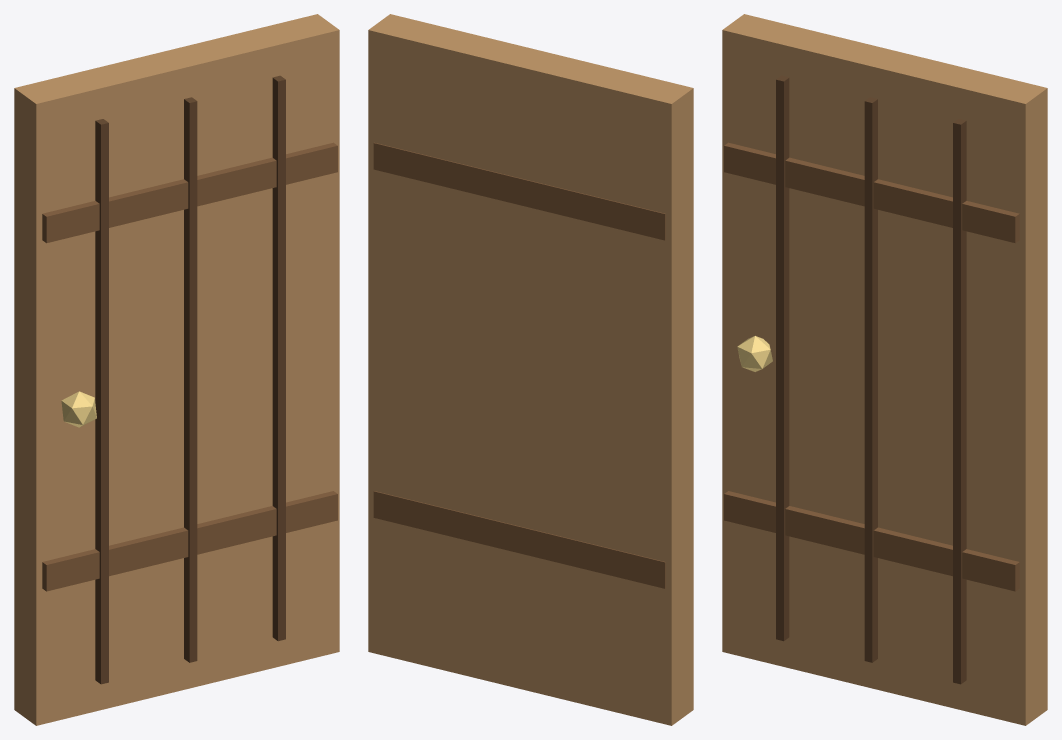
The model's file is door_open_close.glb.
The picture shows the model from 3 angles, left to right: view 1: azimuth 30°, elevation 25°; view 2: azimuth 150°, elevation 25°; view 3: azimuth 330°, elevation 25°; orthographic projection.
Parts seen in each view (by area): view 1: DoorPanel, DoorTopRail, DoorBottomRail, DoorGrainLine.001, DoorGrainLine.002, DoorGrainLine, DoorKnob; view 2: DoorPanel, DoorTopRail, DoorBottomRail; view 3: DoorPanel, DoorTopRail, DoorBottomRail, DoorGrainLine.001, DoorGrainLine, DoorGrainLine.002, DoorKnob.
Part boxes in pixels (box(x1,y1,x2,y2)): DoorPanel: box(14, 14, 339, 725); DoorTopRail: box(42, 142, 337, 243); DoorBottomRail: box(42, 491, 337, 591); DoorGrainLine.001: box(184, 97, 197, 662); DoorGrainLine.002: box(272, 75, 285, 641); DoorGrainLine: box(95, 119, 108, 684); DoorKnob: box(61, 391, 96, 427); DoorPanel: box(368, 14, 693, 725); DoorTopRail: box(373, 142, 665, 240); DoorBottomRail: box(373, 491, 665, 588); DoorPanel: box(722, 14, 1047, 725); DoorTopRail: box(724, 142, 1019, 243); DoorBottomRail: box(724, 491, 1019, 591); DoorGrainLine.001: box(864, 97, 877, 662); DoorGrainLine: box(776, 75, 789, 641); DoorGrainLine.002: box(953, 119, 966, 684); DoorKnob: box(737, 336, 772, 371).
Size of the model in its own units: 0.96 by 1.88 by 0.198.
